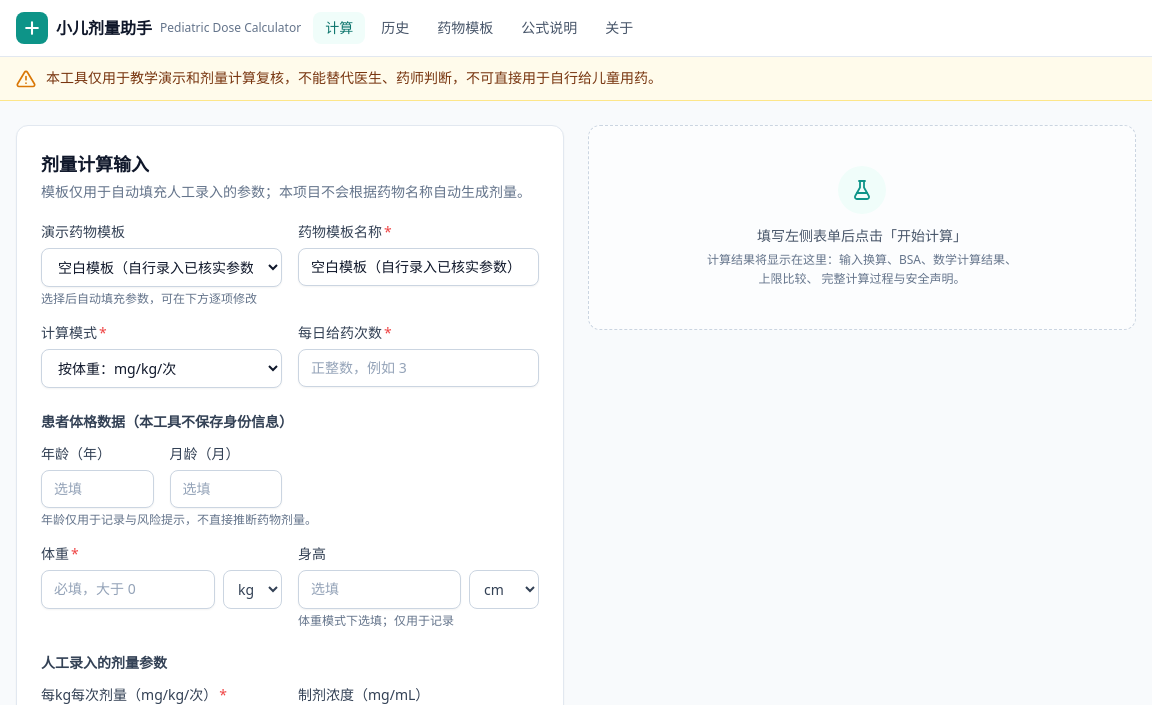
Test: 页面与按钮冒烟测试 › 超限预警：超过单次 / 每日最大剂量时红色警告且结果不被截断
Select "模拟药物A（虚构演示·体重每次）（虚构演示数据）" in the dropdown with id "f-template" at (162, 267), box x1=41 y1=248 x2=282 y2=287
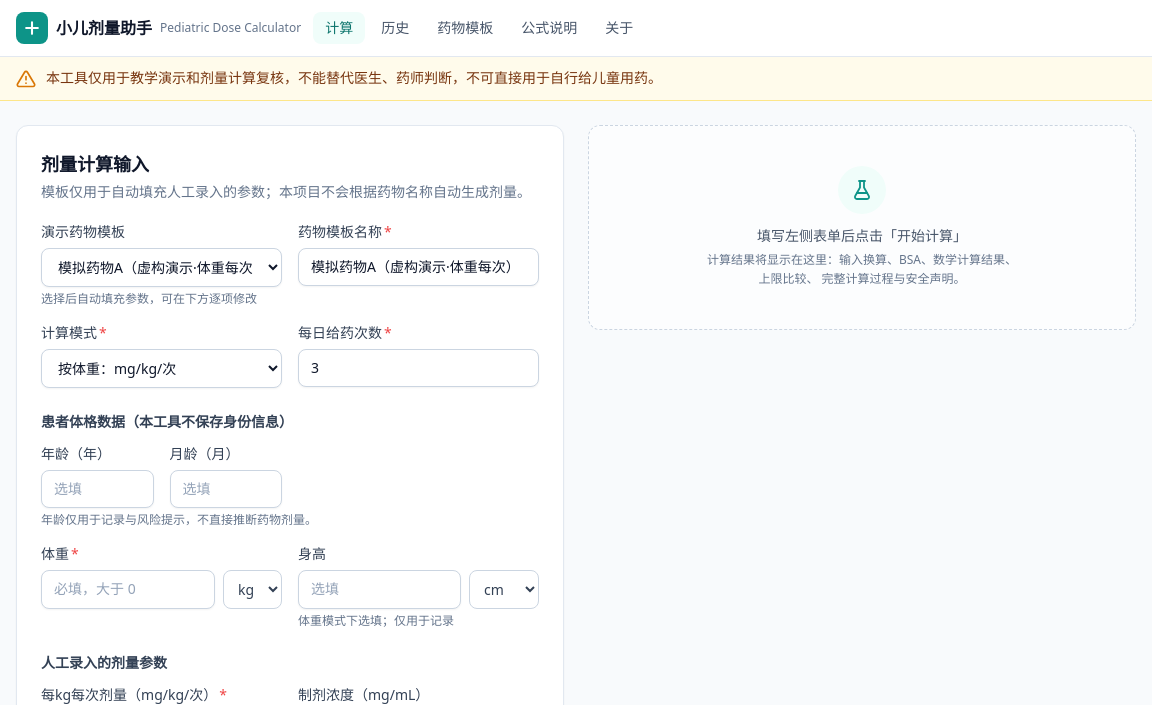
Type "60" into the number field with id "f-weight".
click(128, 589); type("60")  # box x1=41 y1=570 x2=215 y2=609
(page scrolled)
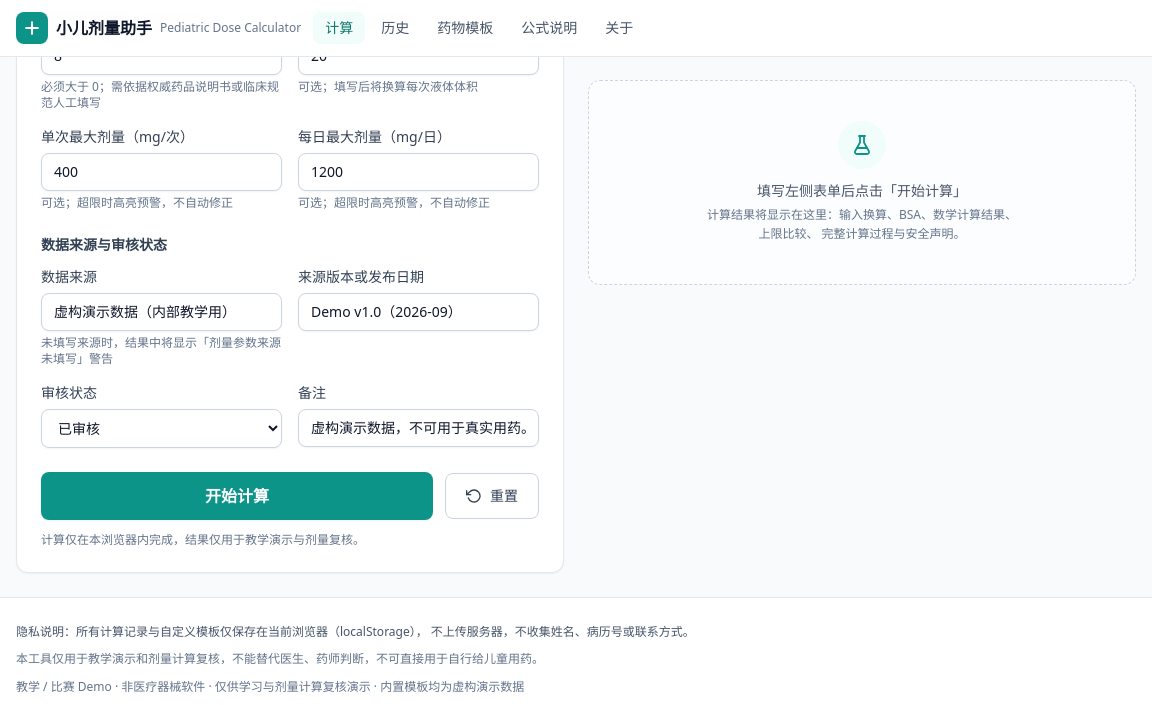
Click the button "开始计算".
click(237, 496)  # box x1=41 y1=472 x2=433 y2=520
(page scrolled)
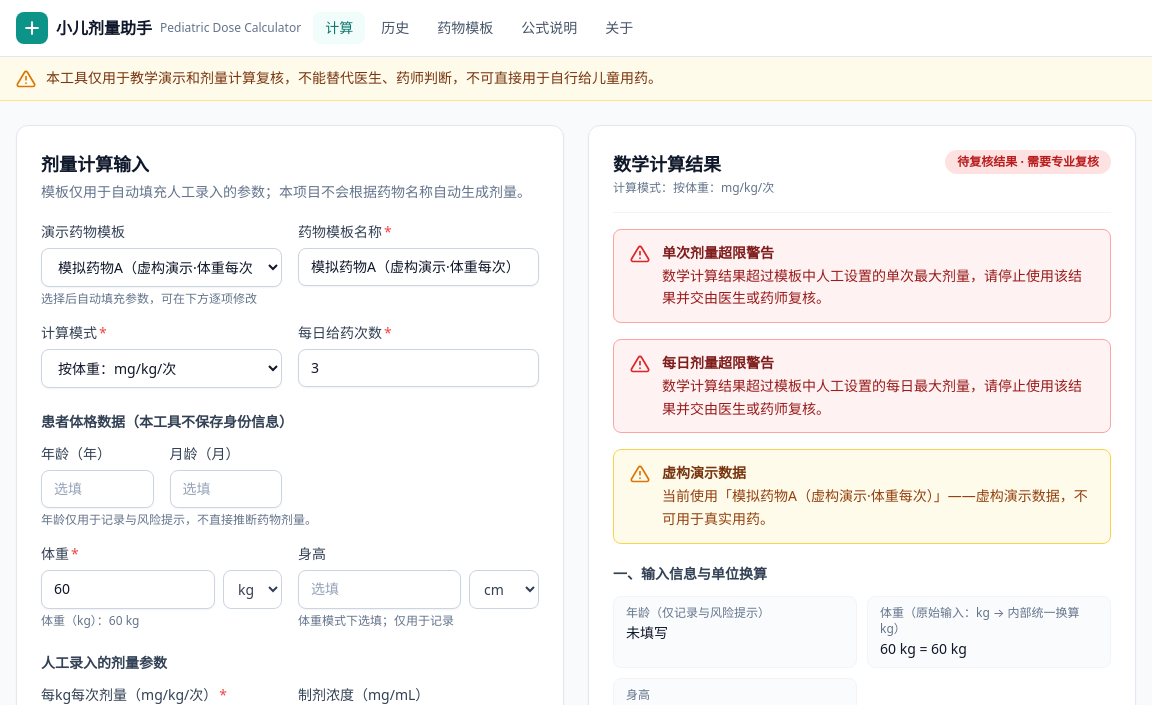
Expected: the text "数学计算结果超过模板中人工设置的单次最大剂量，请停止使用该结果并交由医生或药师复核。" is shown, x1=662 y1=264 x2=1094 y2=310
Expected: the text "数学计算结果超过模板中人工设置的每日最大剂量，请停止使用该结果并交由医生或药师复核。" is shown, x1=662 y1=375 x2=1094 y2=420
Expected: the text "待复核结果 · 需要专业复核" is shown, x1=945 y1=150 x2=1111 y2=174
